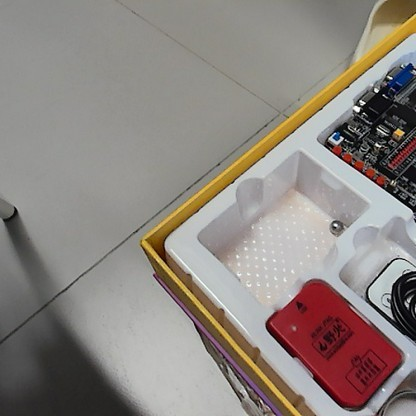ironball: (326, 218, 345, 237)
